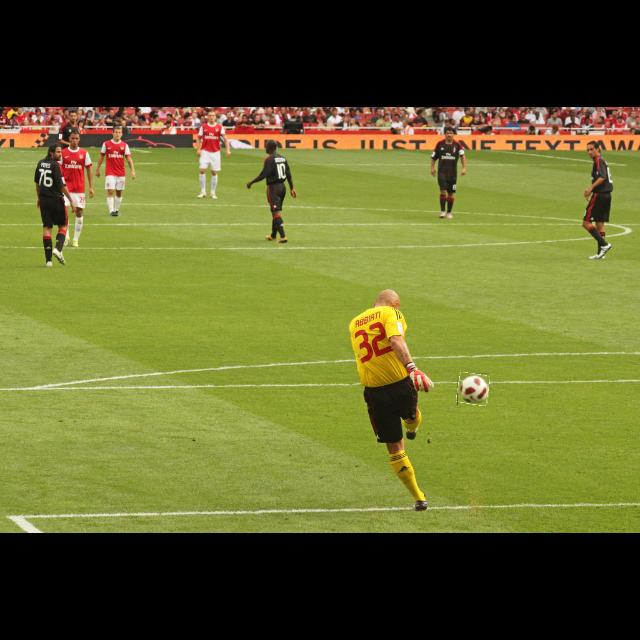Football: (457, 373, 489, 405)
